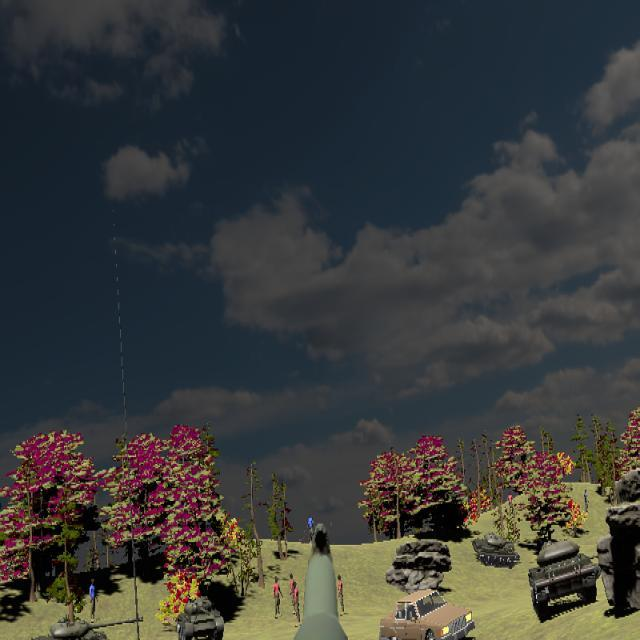Human: (272, 576, 283, 620)
Tank: (528, 539, 599, 617), (16, 617, 143, 640), (176, 595, 224, 640), (473, 533, 521, 568)
car: (378, 589, 475, 640)
